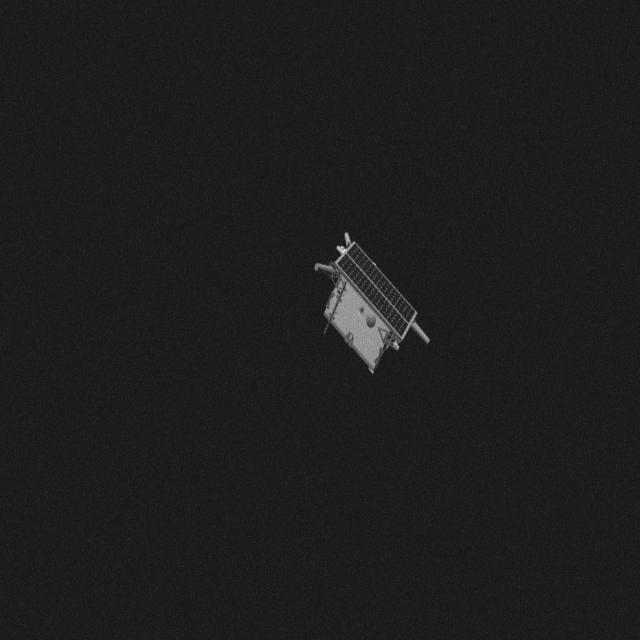medium_debris: (320, 230, 444, 382)
